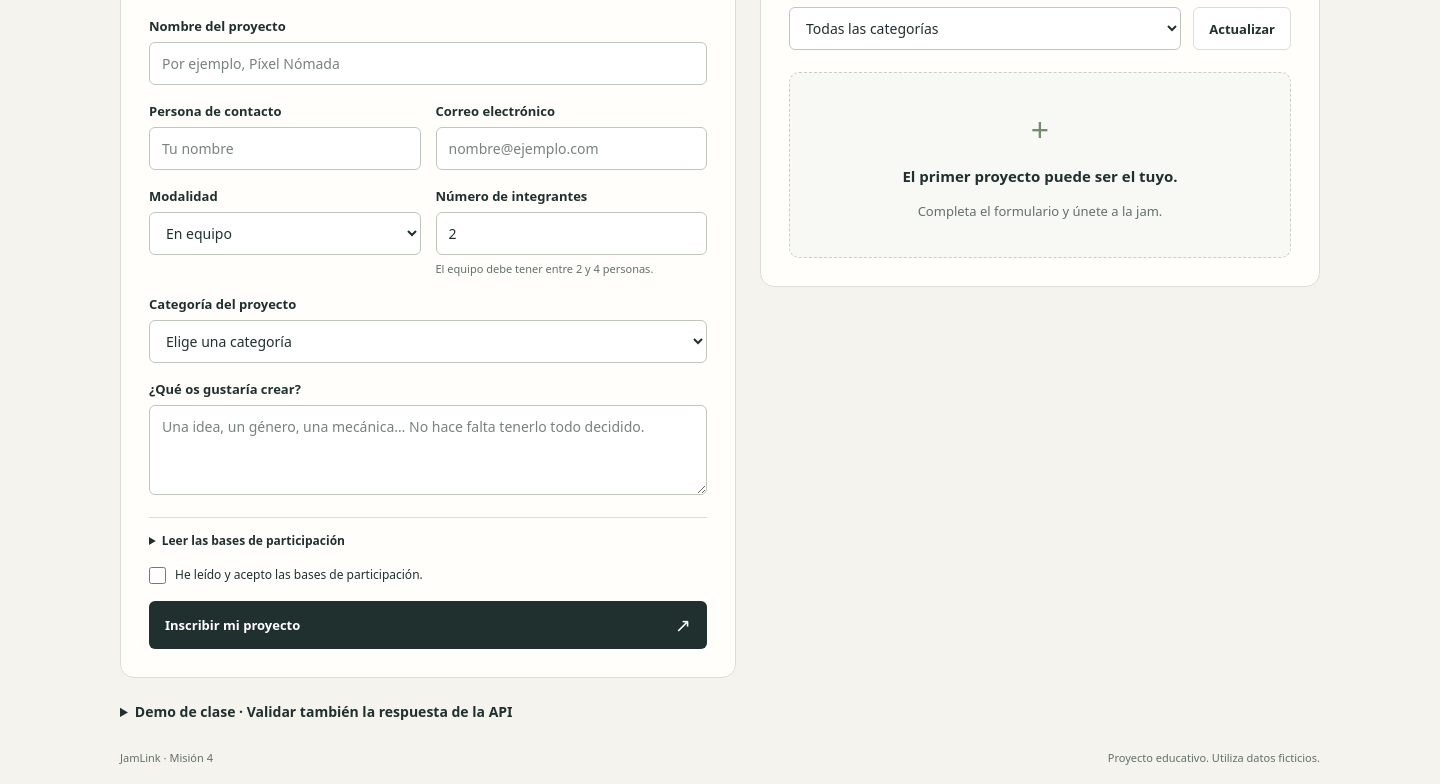
Scenario: Bonus: respuesta incorrecta de una API › no anuncia dato corrupto si la respuesta de demostración es válida
(page scrolled)
Expected: the heading "El primer proyecto puede ser el tuyo." is shown, left=902, top=166, right=1178, bottom=186
Click the heading "Demo de clase · Validar también la respuesta de la API" at [324, 711], box left=135, top=702, right=512, bottom=721
(page scrolled)
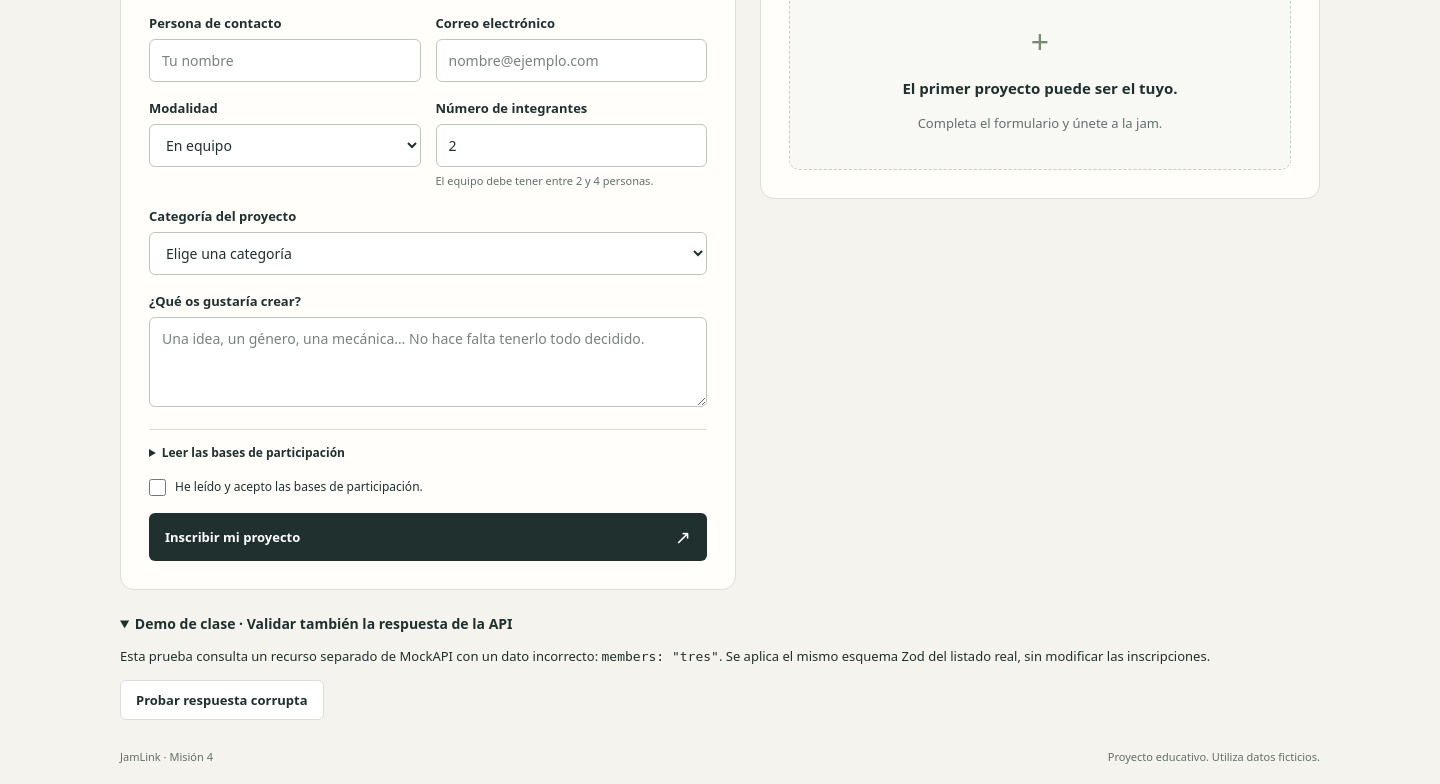
Click the button "Probar respuesta corrupta" at [222, 700], box left=120, top=680, right=324, bottom=720
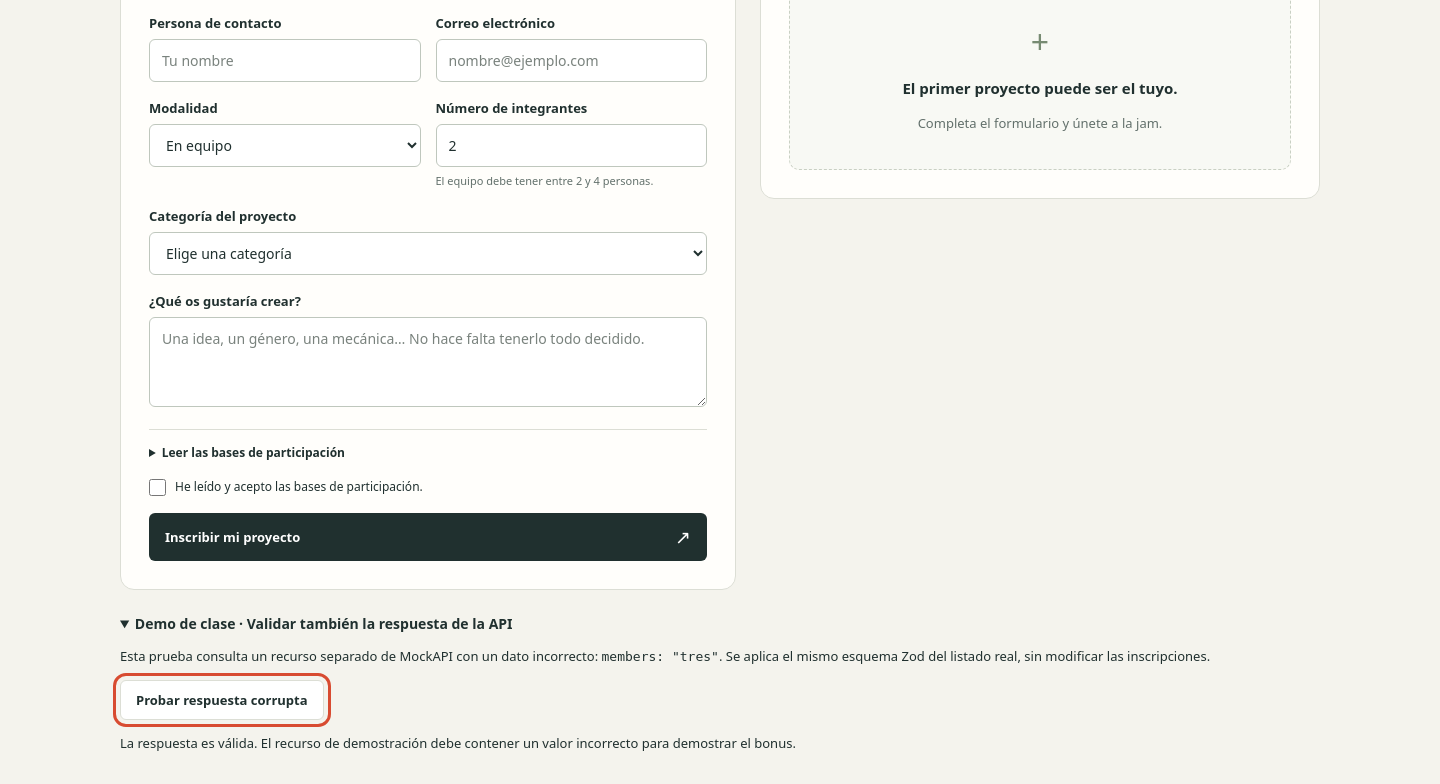
Expected: the text "La respuesta es válida" is shown, left=120, top=734, right=796, bottom=752
